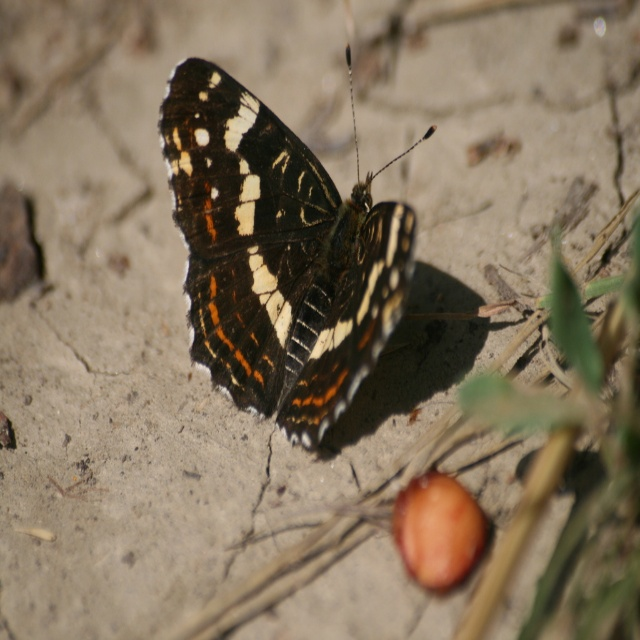Butterfly: (149, 17, 442, 459)
